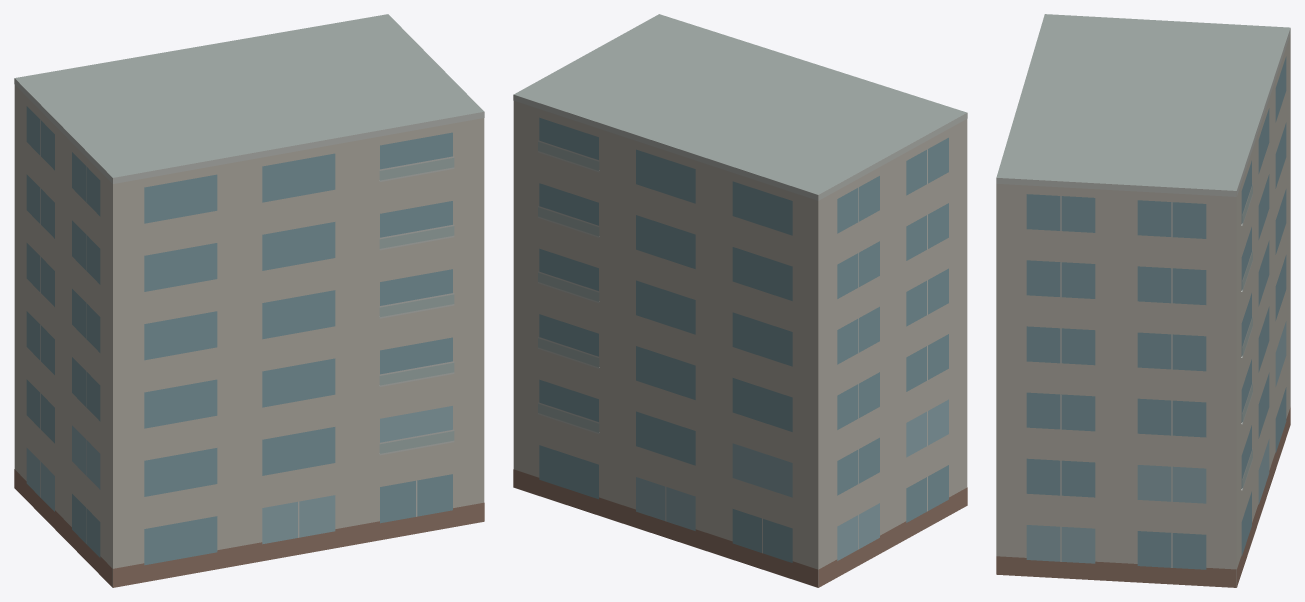
File: survey-upis-32522946.glb
3 views of the same model, side by side, from view 1: azimuth 30°, elevation 25°; view 2: azimuth 150°, elevation 25°; view 3: azimuth 270°, elevation 25° (orthographic). The views are drawn at different scales.
Parts seen in each view (by area): view 1: survey-upis-32522946.tmp; view 2: survey-upis-32522946.tmp; view 3: survey-upis-32522946.tmp.
Boxes of the visible parts, x1=… form: survey-upis-32522946.tmp: x1=14, y1=14, x2=484, y2=587; survey-upis-32522946.tmp: x1=513, y1=14, x2=967, y2=587; survey-upis-32522946.tmp: x1=996, y1=14, x2=1290, y2=587.
Size of the model in its own units: 15.45 by 16.15 by 10.86.
